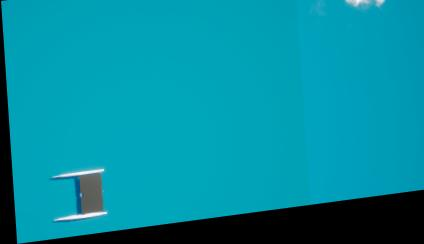boat: (44, 166, 106, 231)
drone: (76, 176, 99, 215)
land_base: (319, 0, 408, 36)
